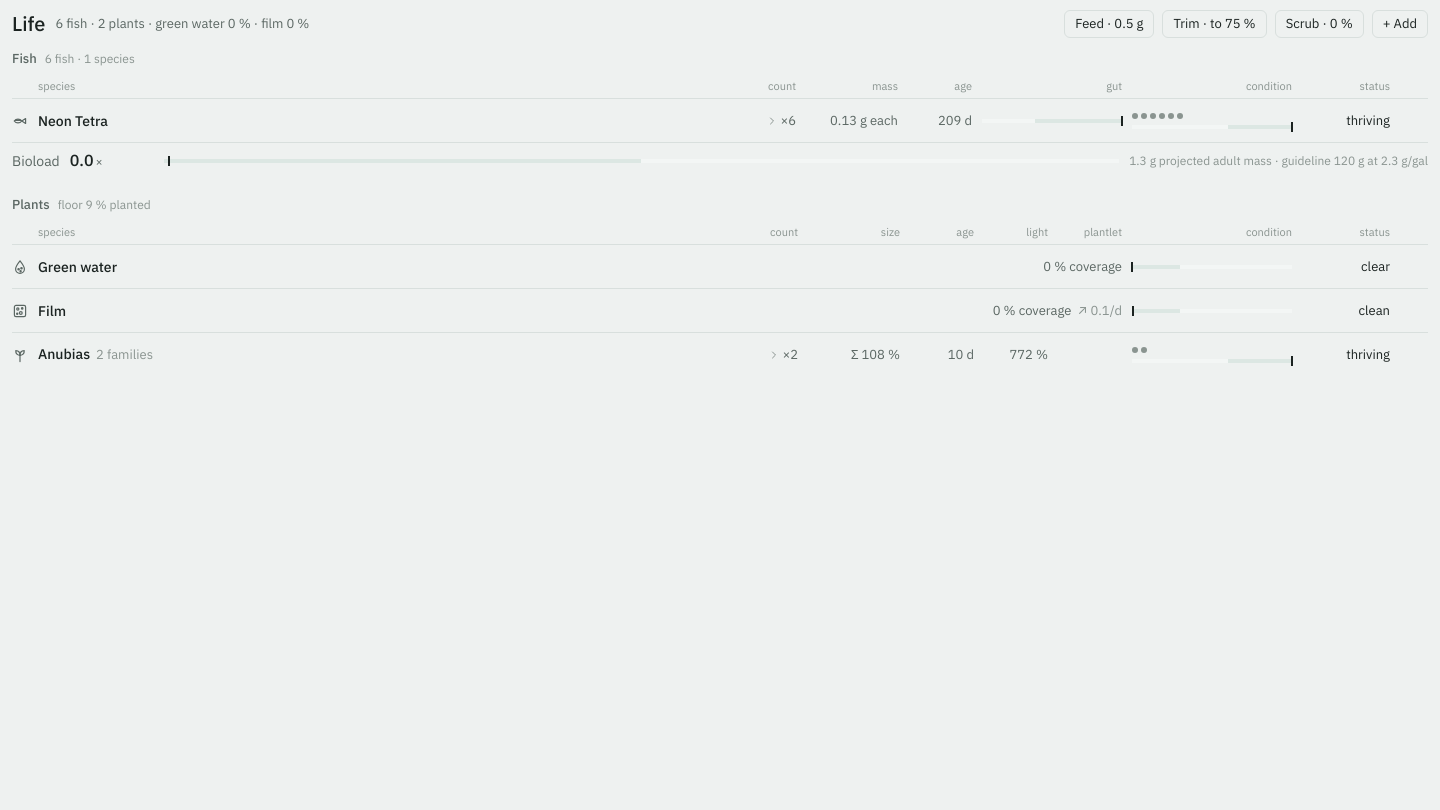
Scenario: LifeSection › opens a group’s ledger on its worst member, and says which
Click the button with aria-label "inspect the worst of 6" at [1346, 120], box [1302, 110, 1390, 130]
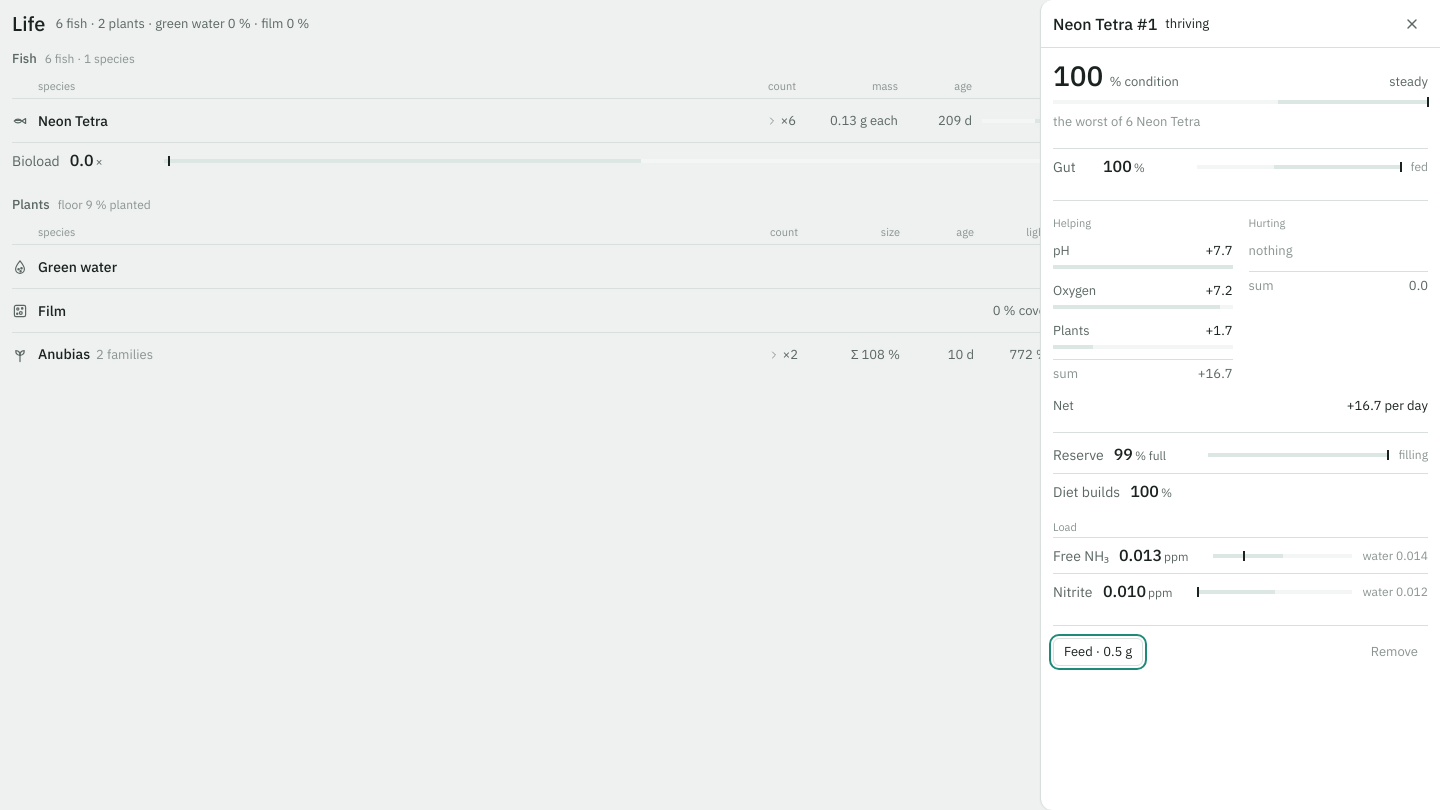
Expected: the text "the worst of 6 Neon Tetra" is shown, [1053, 113, 1200, 130]
